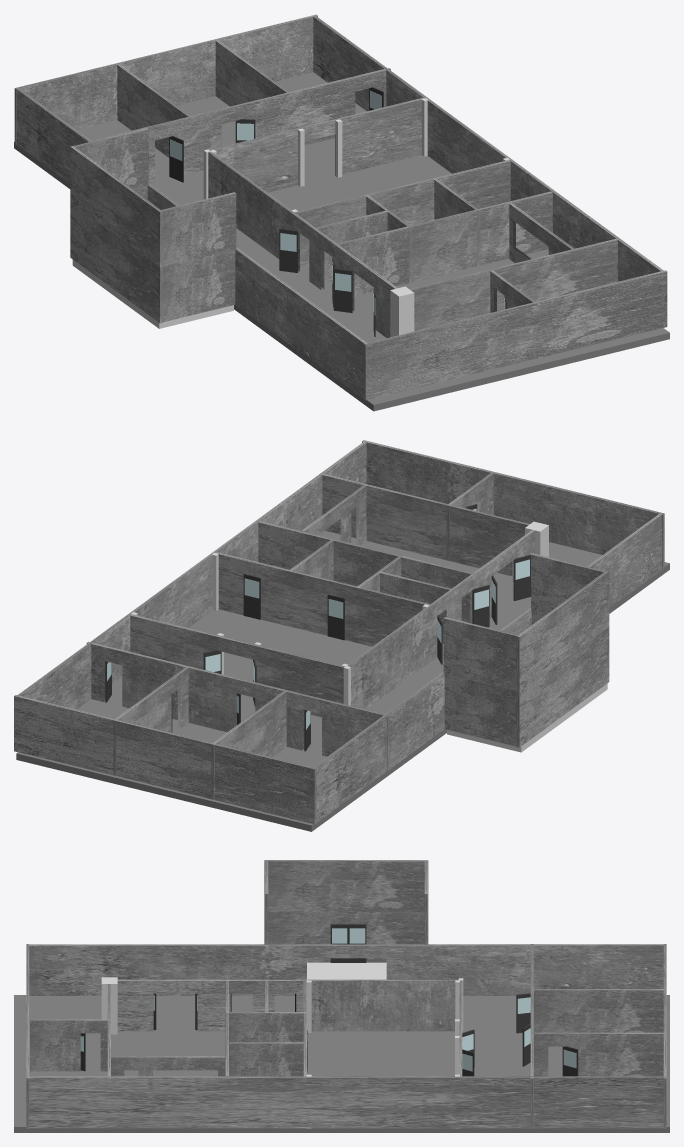
File: ScaryGame_School.fbx
3 views of the same model, one above another, from view 1: azimuth 30°, elevation 25°; view 2: azimuth 150°, elevation 25°; view 3: azimuth 270°, elevation 25° (orthographic). The views are drawn at different scales.
Visible parts, largest first — view 1: Cube.019, Cube.003, Cube.002, Cube, Cube.001, Cube.011, Cube.008, Cube.020, Cube.010, Cube.016, Cube.012, Cube.047 (+17 smaller); view 2: Cube.002, Cube.019, Cube.003, Cube, Cube.001, Cube.020, Cube.008, Cube.012, Cube.010, Cube.011, Cube.047, Cube.006 (+16 smaller); view 3: Cube.001, Cube.019, Cube, Cube.010, Cube.047, Cube.021, Cube.022, Cube.006, Cube.009, Cube.017, Cube.015, Cube.018 (+9 smaller).
Boxes of the visible parts, left/top/right/bottom form: Cube.019: left=14, top=72, right=669, bottom=411; Cube.003: left=364, top=270, right=667, bottom=400; Cube.002: left=14, top=14, right=317, bottom=144; Cube: left=16, top=88, right=367, bottom=398; Cube.001: left=312, top=15, right=663, bottom=281; Cube.011: left=209, top=97, right=426, bottom=192; Cube.008: left=409, top=238, right=617, bottom=331; Cube.020: left=87, top=68, right=390, bottom=183; Cube.010: left=208, top=151, right=397, bottom=337; Cube.016: left=411, top=191, right=552, bottom=281; Cube.012: left=294, top=160, right=510, bottom=267; Cube.047: left=70, top=146, right=162, bottom=267; Cube.002: left=14, top=695, right=316, bottom=824; Cube.019: left=16, top=530, right=669, bottom=831; Cube.003: left=362, top=440, right=664, bottom=569; Cube: left=312, top=513, right=662, bottom=822; Cube.001: left=17, top=441, right=366, bottom=709; Cube.020: left=86, top=641, right=388, bottom=771; Cube.008: left=322, top=474, right=529, bottom=576; Cube.012: left=216, top=552, right=430, bottom=646; Cube.010: left=347, top=530, right=535, bottom=709; Cube.011: left=130, top=614, right=344, bottom=717; Cube.047: left=516, top=571, right=609, bottom=692; Cube.006: left=516, top=627, right=609, bottom=747; Cube.001: left=28, top=1076, right=665, bottom=1128; Cube.019: left=14, top=995, right=669, bottom=1132; Cube: left=28, top=944, right=665, bottom=995; Cube.010: left=117, top=979, right=460, bottom=1031; Cube.047: left=264, top=860, right=428, bottom=911; Cube.021: left=531, top=989, right=666, bottom=1032; Cube.022: left=531, top=1032, right=664, bottom=1076; Cube.006: left=264, top=912, right=428, bottom=962; Cube.009: left=30, top=1019, right=110, bottom=1071; Cube.017: left=225, top=1042, right=306, bottom=1076; Cube.015: left=225, top=1012, right=306, bottom=1042; Cube.018: left=110, top=1056, right=224, bottom=1076.
Size of the model in its own units: 4477 by 7400 by 1340.
